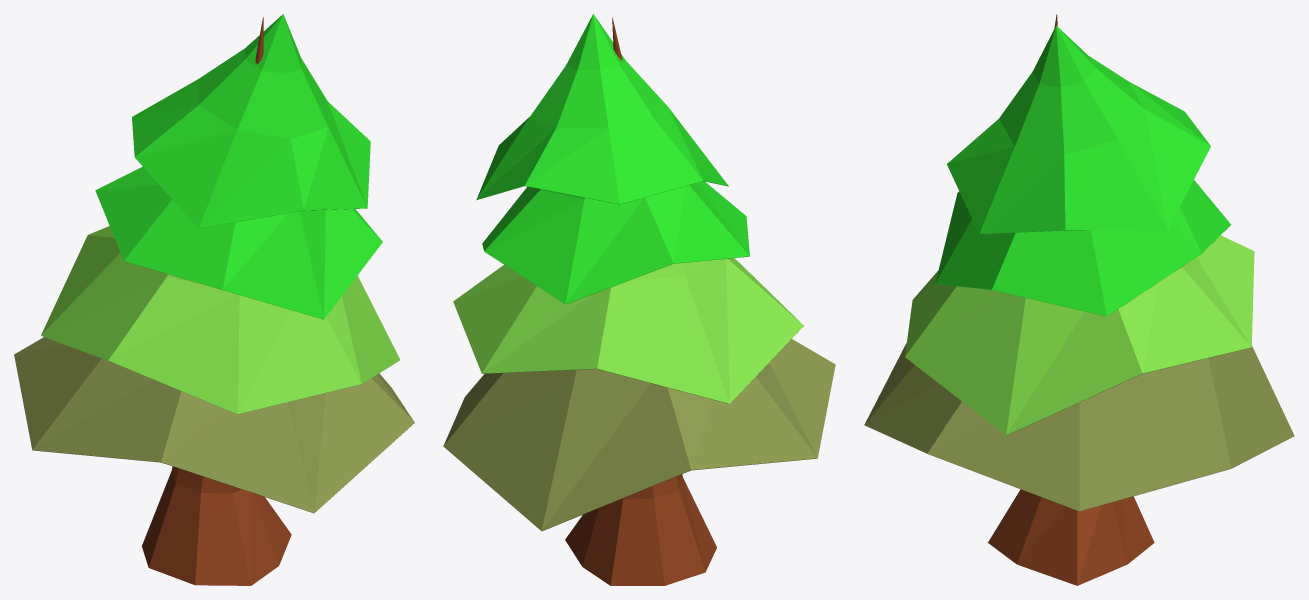
3 renders of one model, left to right at view 1: azimuth 30°, elevation 25°; view 2: azimuth 150°, elevation 25°; view 3: azimuth 270°, elevation 25°, orthographic. The views are drawn at different scales.
Visible parts, largest first — view 1: Cylinder002; view 2: Cylinder002; view 3: Cylinder002.
Boxes of the visible parts, x1,y1,x2,y2 form: Cylinder002: (14,14,414,585); Cylinder002: (443,14,835,585); Cylinder002: (864,14,1294,585).
Size of the model in its own units: 1406 by 1996 by 1409.
